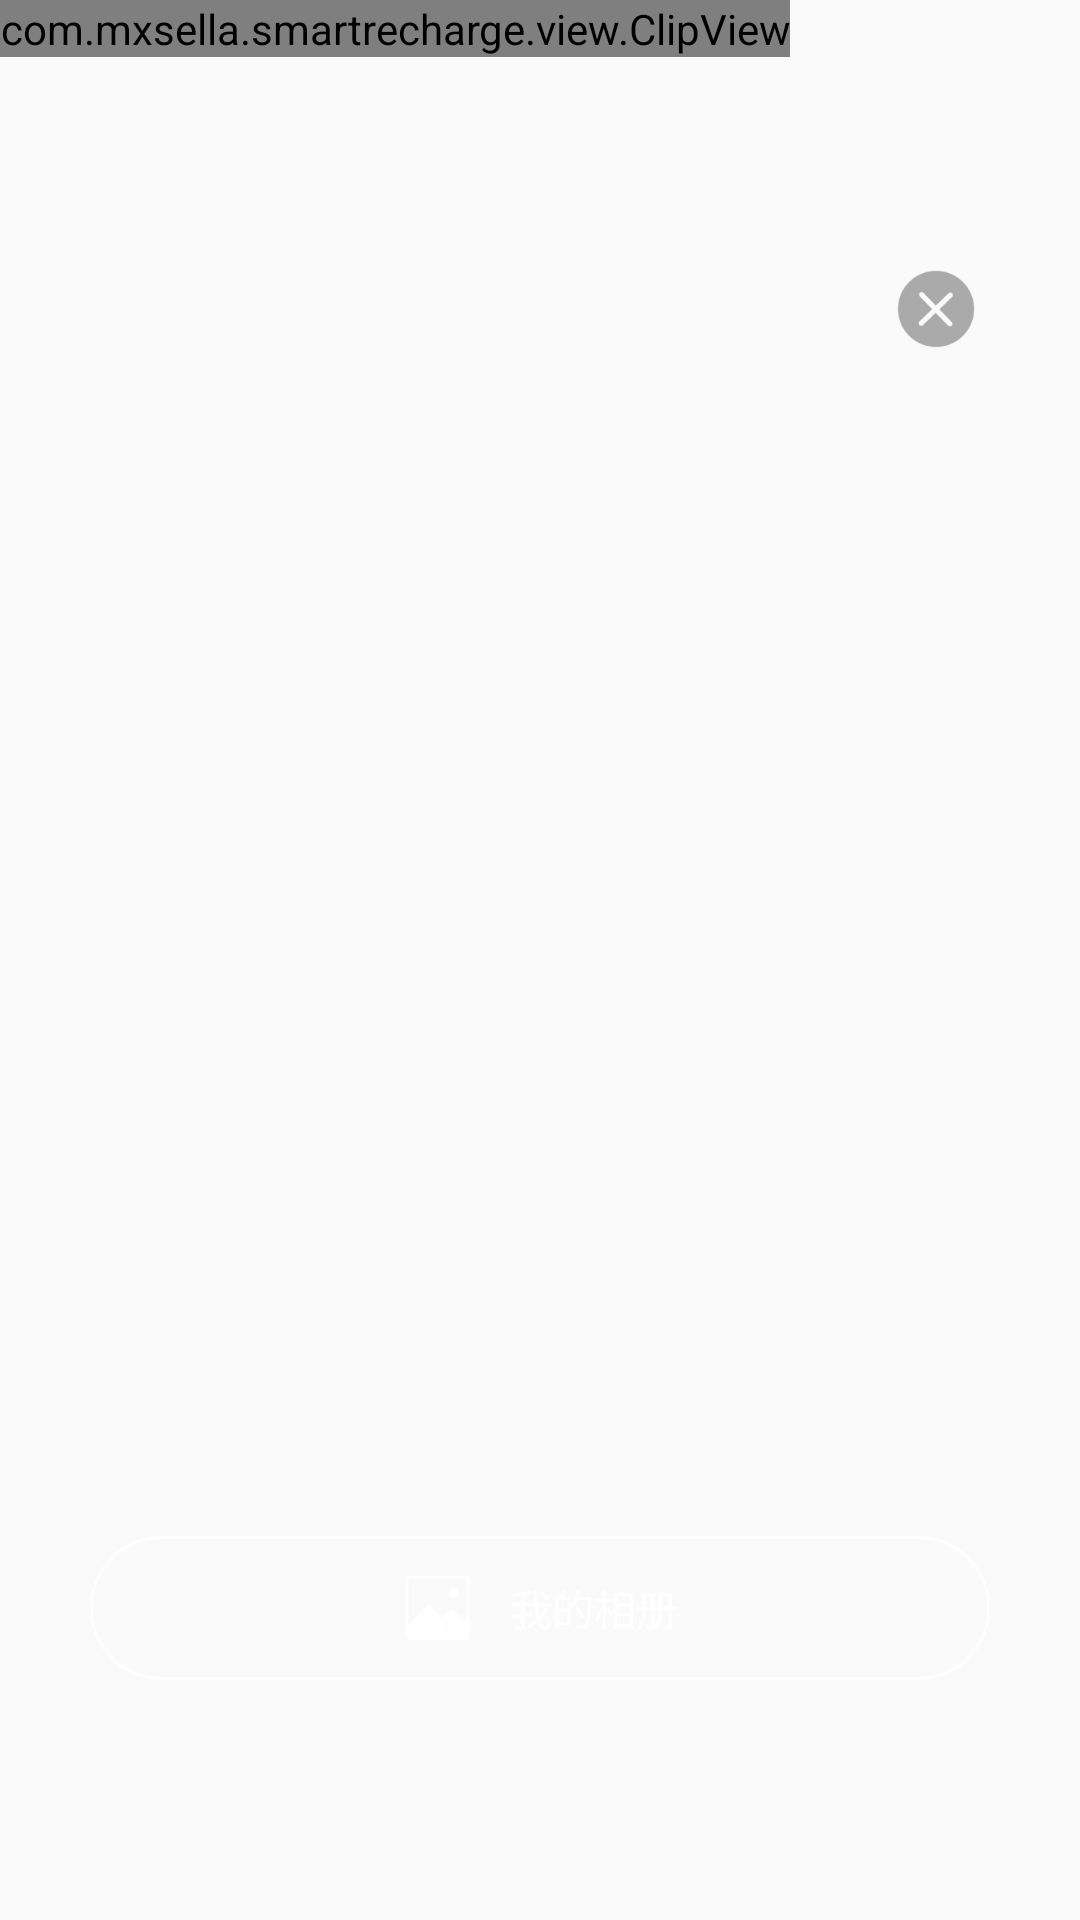

Named icons in this screenshot (1080 x 1920) and their bounding boxes, detection(x1, y1, x2, y2):
close: detection(898, 271, 974, 347)
